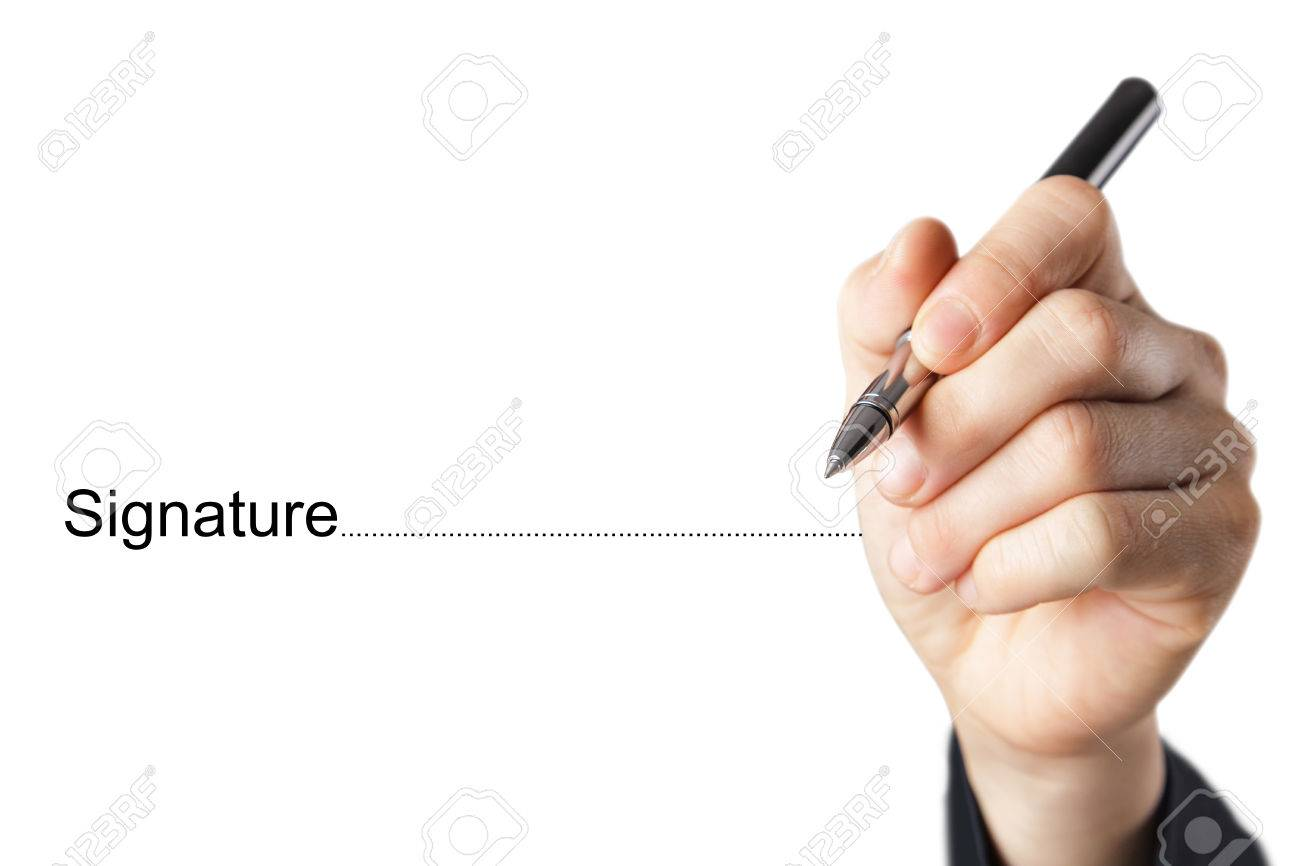pointer: (830, 163, 1263, 746)
